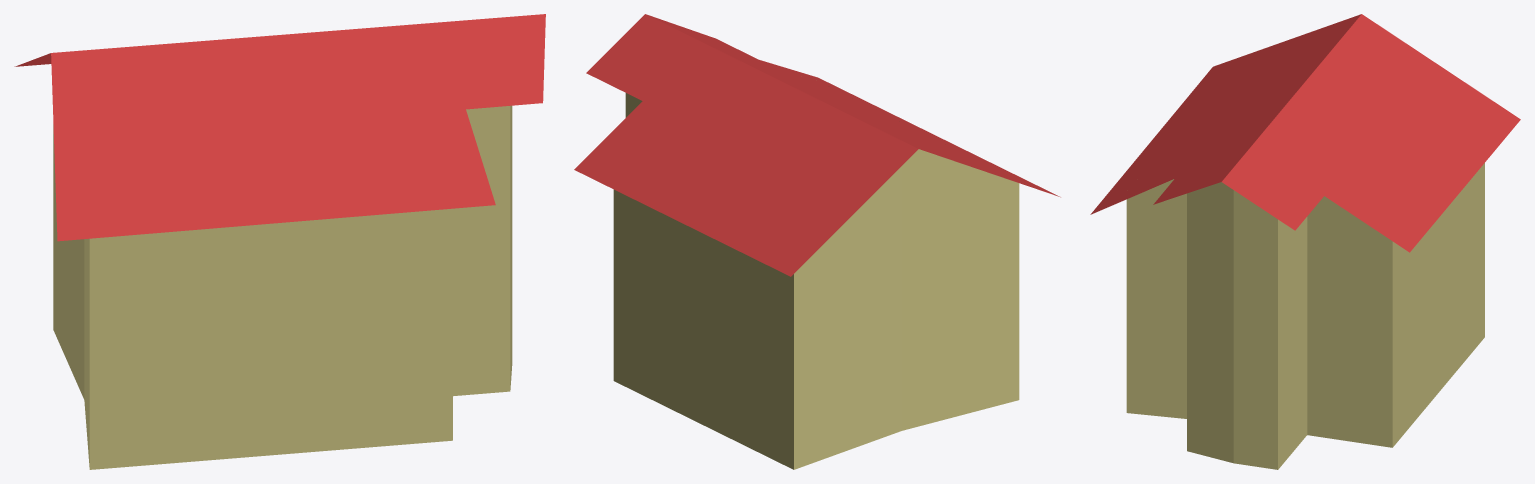
3 renders of one model, left to right at view 1: azimuth 30°, elevation 25°; view 2: azimuth 150°, elevation 25°; view 3: azimuth 270°, elevation 25°, orthographic. The views are drawn at different scales.
Parts seen in each view (by area): view 1: group_5, group_3, group_4; view 2: group_5, group_3, group_4; view 3: group_5, group_3, group_4.
Part boxes in pixels (box(x1,y1,x2,y2)): group_5: box(53, 105, 512, 469); group_3: box(51, 14, 545, 241); group_4: box(14, 14, 545, 227); group_5: box(613, 93, 1019, 469); group_3: box(574, 14, 1060, 276); group_4: box(632, 14, 968, 198); group_5: box(1126, 163, 1484, 469); group_3: box(1091, 14, 1520, 252); group_4: box(1090, 14, 1361, 214).
Size of the model in its own units: 17.92 by 15.35 by 11.48.
